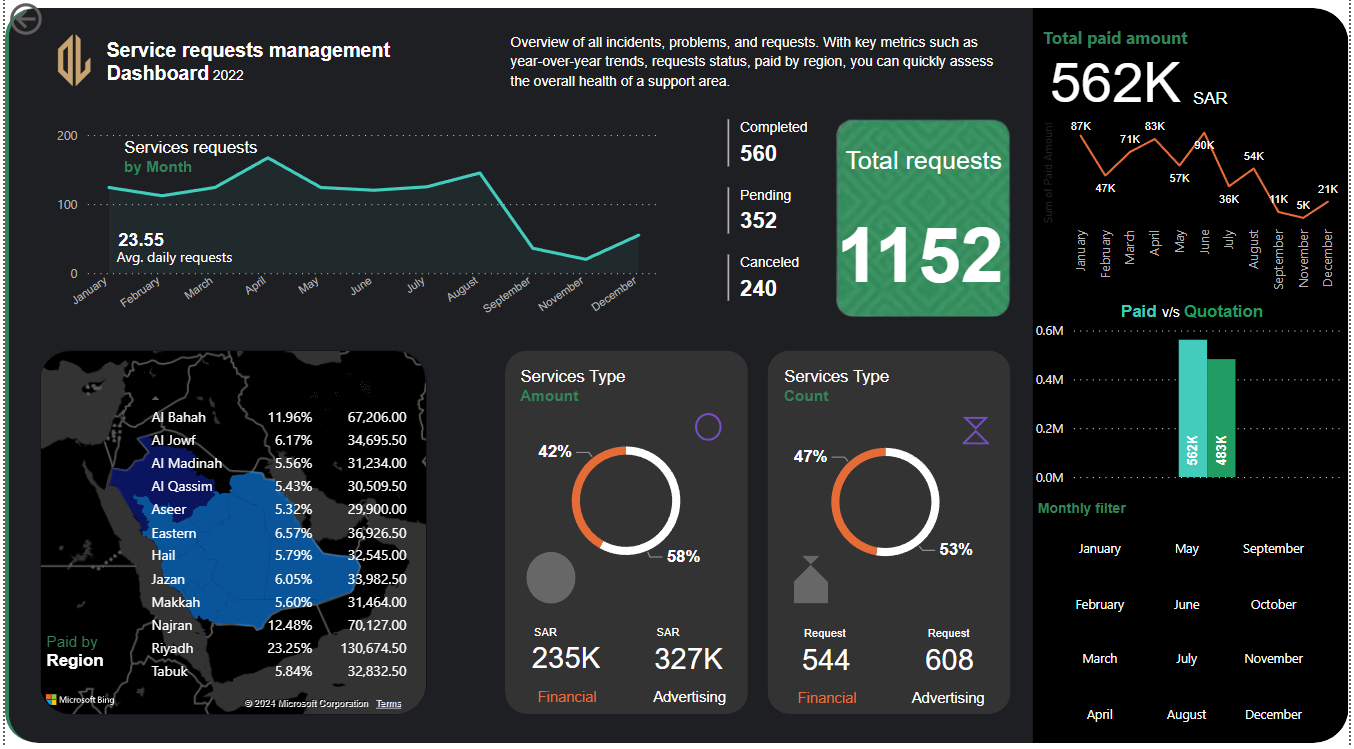

What the dashboard file says about the page in this screenshot:
{"tool":"powerbi","page":{"name":"Page 1","canvas":[1280,720],"ordinal":0},"visuals":[{"type":"shape","box":[0,9,999,699],"z":0},{"type":"shape","box":[4,9,986,700],"z":1000},{"type":"shape","box":[979,9,301,700],"z":2000},{"type":"textbox","box":[92,35,308,57],"z":3000},{"type":"image","box":[22.9,14.5,86.8,89.2],"z":4000},{"type":"areaChart","fields":{"Category":["Locations.Date.Variation.Date Hierarchy.Month"],"Y":["CountNonNull(Locations.Request Number)"]},"box":[44.6,117,584.9,196.6],"z":5000},{"type":"textbox","box":[108.5,129,300.3,54.3],"z":6000},{"type":"card","fields":{"Values":["Locations.Avg. of Daily Requests"]},"box":[70,183,119,96],"z":7000},{"type":"textbox","box":[101.3,231.6,300.3,45.8],"z":8000},{"type":"multiRowCard","fields":{"Values":["Request_Status.Request Number","Request_Status.Request Status"]},"box":[683,111,132,208],"z":9000},{"type":"image","box":[779,109,190.6,201.4],"z":10000},{"type":"textbox","box":[785.1,137.5,178.5,45.8],"z":11000},{"type":"card","fields":{"Values":["CountNonNull(Request_Status.Request Number)"]},"box":[759.8,174.9,224.3,126.6],"z":12000},{"type":"textbox","box":[975.3,21,165.2,45.8],"z":13000,"group":"g3"},{"type":"lineChart","fields":{"Y":["Sum(Request_Status.Paid Amount)"],"Category":["Locations.Date.Variation.Date Hierarchy.Month"]},"box":[983.8,105,291.2,187.5],"z":13000},{"type":"card","fields":{"Values":["Sum(Request_Status.Paid Amount)"]},"box":[938.6,36,239,80],"z":14000,"group":"g3"},{"type":"filledMap","fields":{"Category":["Locations.Province"],"Series":["Request_Status.Paid Amount"]},"box":[33.8,335.3,367.8,346.1],"z":14000,"group":"g4"},{"type":"textbox","box":[1126.2,81.3,56.2,35],"z":15000,"group":"g3"},{"type":"tableEx","fields":{"Values":["Locations.Province","Divide(Sum(Request_Status.Paid Amount), ScopedEval(Sum(Request_Status.Paid Amount), []))","Sum(Request_Status.Paid Amount)"]},"box":[129.1,357,264.1,303.9],"z":15000,"group":"g4"},{"type":"shape","box":[726,335.3,231.6,346.1],"z":16000},{"type":"actionButton","box":[0,0,100,40],"z":17000},{"type":"shape","box":[476.4,335.3,231.6,346.1],"z":18000},{"type":"donutChart","fields":{"Category":["Service_Type.Service Type"],"Y":["CountNonNull(Service_Type.Service Type)"]},"box":[746.5,400.4,184.5,160.4],"z":19000},{"type":"donutChart","fields":{"Y":["Sum(Request_Status.Paid Amount)"],"Category":["Service_Type.Service Type"]},"box":[499.3,399.2,185.7,160.4],"z":20000},{"type":"textbox","box":[486,346.1,131.5,54.3],"z":21000},{"type":"shape","box":[657.3,395.6,25.3,26.5],"z":22000},{"type":"shape","box":[496.9,527,47,49.4],"z":23000},{"type":"textbox","box":[736.9,346.1,131.5,54.3],"z":24000},{"type":"card","fields":{"Values":["Locations.Advertising"]},"box":[607.8,602,88,53.1],"z":24000,"group":"g1"},{"type":"shape","box":[911.4,398.8,25.3,26.5],"z":25000},{"type":"shape","box":[751.4,530.7,32.6,45.8],"z":26000},{"type":"card","fields":{"Values":["Locations.Financial"]},"box":[487.2,605.6,95.3,44.6],"z":26000,"group":"g1"},{"type":"group","id":"g1","title":"Group 1","box":[480,587.5,227.9,101.3],"z":27000},{"type":"textbox","box":[480,650.2,111,38.6],"z":27000,"group":"g1"},{"type":"slicer","fields":{"Values":["Locations.Date.Variation.Date Hierarchy.Month"]},"box":[976.2,492.5,296.2,220],"z":28000},{"type":"group","id":"g2","title":"Group 2","box":[727,589,220.7,101.3],"z":29000},{"type":"textbox","box":[597,650.2,111,38.6],"z":29000,"group":"g1"},{"type":"clusteredColumnChart","fields":{"Y":["Sum(Request_Status.Paid Amount)","Sum(Request_Status.Quotation Amount)"]},"box":[976.2,291.6,303.8,178.8],"z":30000},{"type":"group","id":"g3","title":"Group 3","box":[938.6,21,243.9,95.3],"z":31000},{"type":"card","fields":{"Values":["Locations.Adreq"]},"box":[862.1,598.6,76,62.7],"z":31000,"group":"g2"},{"type":"textbox","box":[1052.5,281.6,156.2,33.8],"z":32000},{"type":"card","fields":{"Values":["Locations.Finreq"]},"box":[752.3,608.3,60.3,43.4],"z":32000,"group":"g2"},{"type":"textbox","box":[499.3,587.5,56.7,35],"z":33000,"group":"g1"},{"type":"textbox","box":[35,598.8,73.8,53.8],"z":33000,"group":"g4"},{"type":"textbox","box":[978.6,471.4,114.3,31],"z":34000},{"type":"textbox","box":[616.3,587.5,56.7,35],"z":34000,"group":"g1"},{"type":"textbox","box":[476.2,27.5,477.5,71.2],"z":35000},{"type":"textbox","box":[727,651.7,111,38.6],"z":35000,"group":"g2"},{"type":"group","id":"g4","title":"Group 4","box":[33.8,335.3,367.8,346.1],"z":35001},{"type":"textbox","box":[848.8,651.7,98.9,38.6],"z":36000,"group":"g2"},{"type":"textbox","box":[755.9,589,69.9,35],"z":38000,"group":"g2"},{"type":"textbox","box":[873,589,60,35],"z":39000,"group":"g2"}]}

Visuals, with their boxes in screenshot pixels (x1, y1, x2, y2), scaled from the page's 1280x720 canvas onto the 1354x749 screenshot:
shape: 0 9 1057 737
shape: 4 9 1047 738
shape: 1036 9 1353 738
textbox: 97 36 423 96
image: 24 15 116 108
areaChart - Locations.Date.Variation.Date Hierarchy.Month x CountNonNull(Locations.Request Number): 47 122 666 326
textbox: 115 134 432 191
card - Locations.Avg. of Daily Requests: 74 190 200 290
textbox: 107 241 425 289
multiRowCard - Request_Status.Request Number x Request_Status.Request Status: 722 115 862 332
image: 824 113 1026 323
textbox: 830 143 1019 191
card - CountNonNull(Request_Status.Request Number): 804 182 1041 314
textbox: 1032 22 1206 69
lineChart - Sum(Request_Status.Paid Amount) x Locations.Date.Variation.Date Hierarchy.Month: 1041 109 1349 304
card - Sum(Request_Status.Paid Amount): 993 37 1246 121
filledMap - Locations.Province x Request_Status.Paid Amount: 36 349 425 709
textbox: 1191 85 1251 121
tableEx - Locations.Province x Divide(Sum(Request_Status.Paid Amount), ScopedEval(Sum(Request_Status.Paid Amount), [])): 137 371 416 688
shape: 768 349 1013 709
actionButton: 0 0 106 42
shape: 504 349 749 709
donutChart - Service_Type.Service Type x CountNonNull(Service_Type.Service Type): 790 417 985 583
donutChart - Sum(Request_Status.Paid Amount) x Service_Type.Service Type: 528 415 725 582
textbox: 514 360 653 417
shape: 695 412 722 439
shape: 526 548 575 600
textbox: 780 360 919 417
card - Locations.Advertising: 643 626 736 681
shape: 964 415 991 442
shape: 795 552 829 600
card - Locations.Financial: 515 630 616 676
"Group 1" group: 508 611 749 717
textbox: 508 676 625 717
slicer - Locations.Date.Variation.Date Hierarchy.Month: 1033 512 1346 741
"Group 2" group: 769 613 1002 718
textbox: 632 676 749 717
clusteredColumnChart - Sum(Request_Status.Paid Amount) x Sum(Request_Status.Quotation Amount): 1033 303 1353 489
"Group 3" group: 993 22 1251 121
card - Locations.Adreq: 912 623 992 688
textbox: 1113 293 1279 328
card - Locations.Finreq: 796 633 860 678
textbox: 528 611 588 648
textbox: 37 623 115 679
textbox: 1035 490 1156 523
textbox: 652 611 712 648
textbox: 504 29 1009 103
textbox: 769 678 886 718
"Group 4" group: 36 349 425 709
textbox: 898 678 1002 718
textbox: 800 613 874 649
textbox: 923 613 987 649
